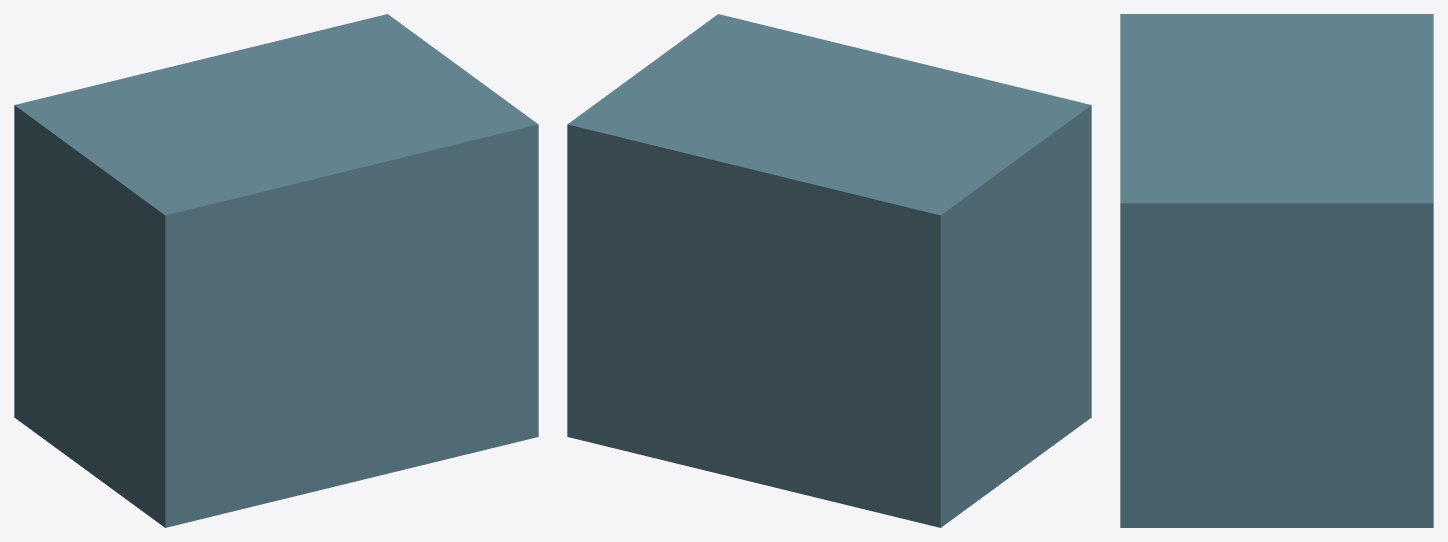
File: Crate_LOD2.obj
The picture shows the model from 3 angles, left to right: view 1: azimuth 30°, elevation 25°; view 2: azimuth 150°, elevation 25°; view 3: azimuth 270°, elevation 25°; orthographic projection. The views are drawn at different scales.
Parts seen in each view (by area): view 1: Asset; view 2: Asset; view 3: Asset.
Part boxes in pixels (x1,y1,x2,y2): Asset: (14,14,538,527); Asset: (567,14,1091,527); Asset: (1120,14,1433,527).
Size of the model in its own units: 2 by 1.6 by 1.4.
